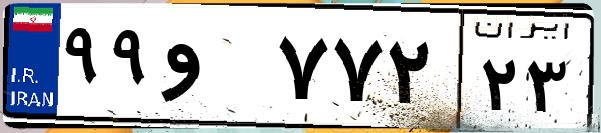2: (385, 28, 445, 110), (475, 38, 525, 113)
3: (525, 38, 570, 115)
7: (270, 28, 330, 110), (330, 28, 385, 110)
9: (57, 26, 110, 100), (110, 28, 158, 98)
و: (158, 20, 270, 120)
